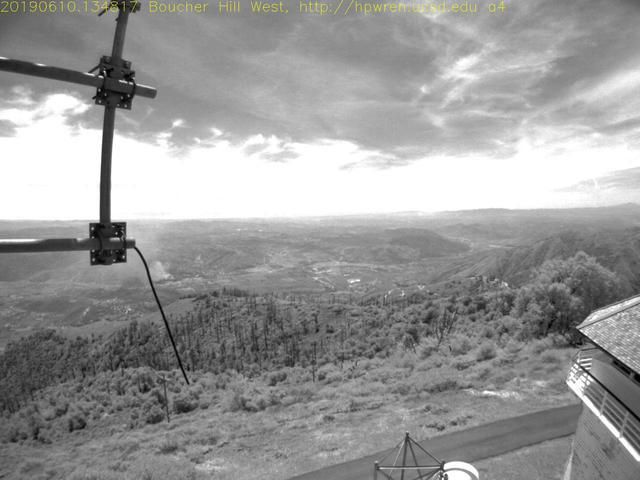smoke: (131, 223, 171, 286)
